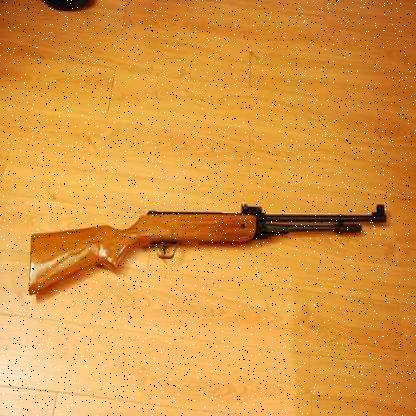rifle: (28, 194, 400, 333)
